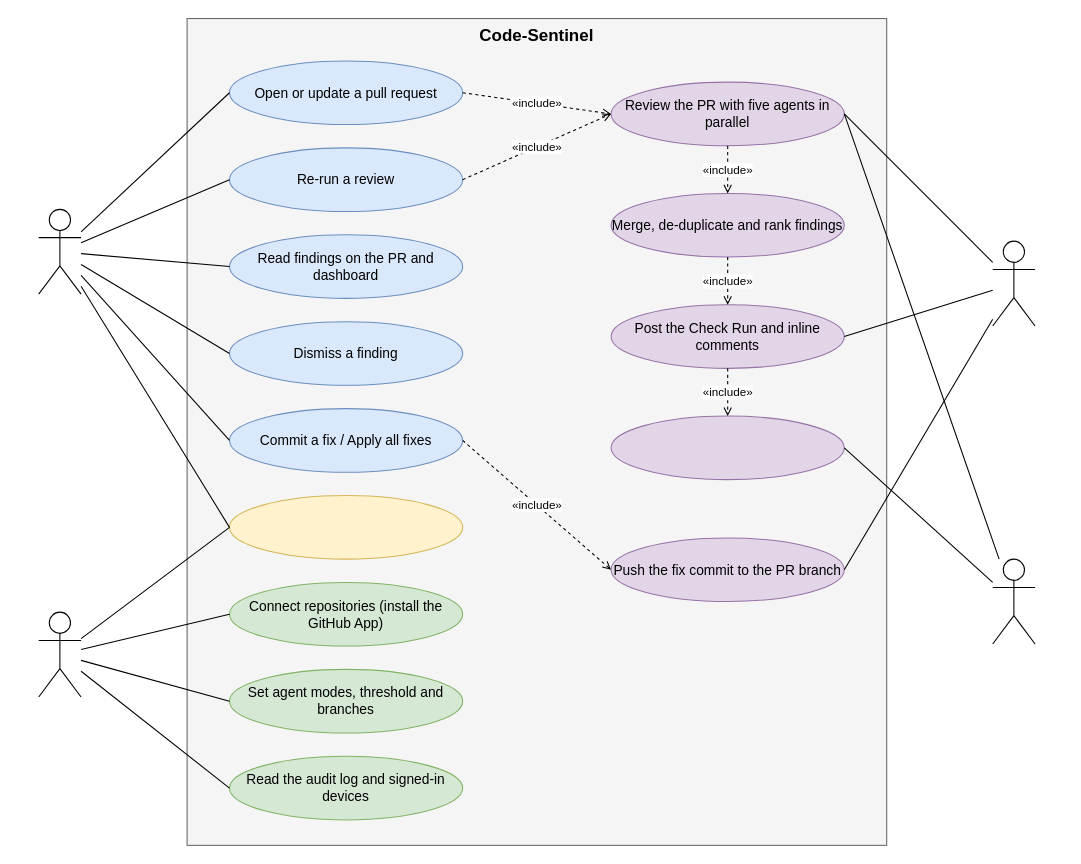
Image size: 1081x864. Some labels were removed from this diagram. The centre of each missing label's shape, as x and y in pixels:
Developer: point (59, 251)
GitHub: point (1013, 283)
Link similar earlier findings ("Seen before"): point (727, 447)
LLM providers (Groq, Gemini): point (1013, 601)
Organization admin: point (59, 654)
Sign in (email, GitHub, Google, optional 2FA): point (345, 526)
